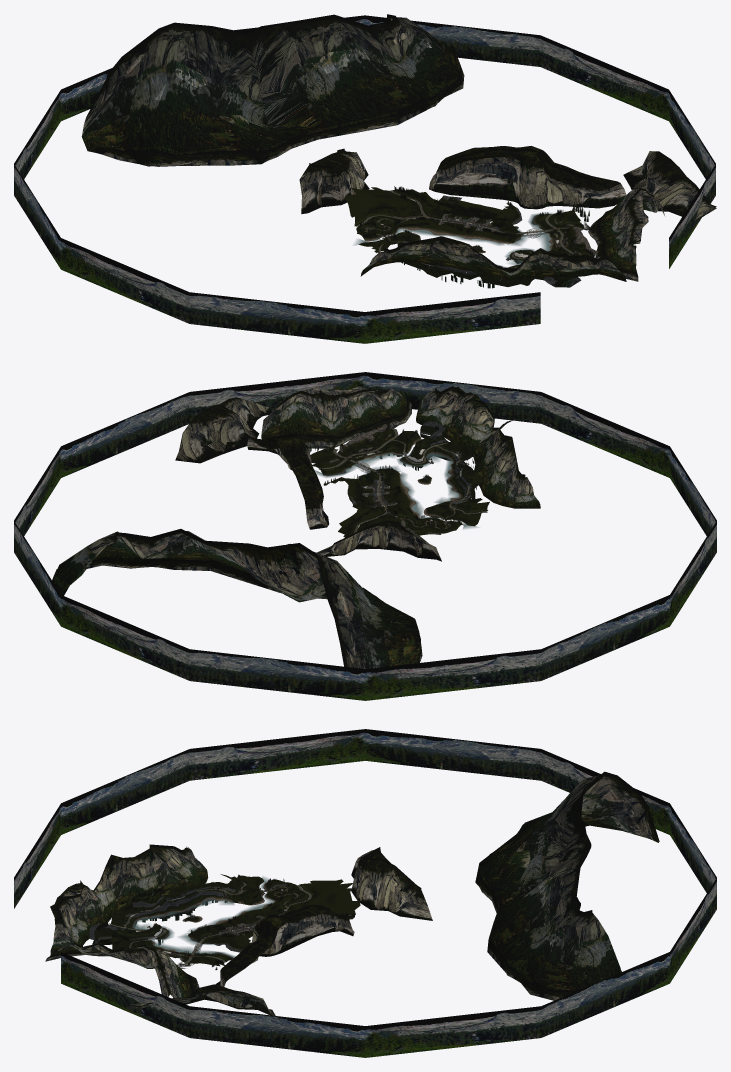
File: burnout3-silver_lake.glb
The picture shows the model from 3 angles, top to bottom: view 1: azimuth 30°, elevation 25°; view 2: azimuth 150°, elevation 25°; view 3: azimuth 270°, elevation 25°; orthographic projection.
Parts seen in each view (by area): view 1: reflection_grp_000_mdl_003_sub_000, reflection_grp_000_mdl_006_sub_000, reflection_grp_000_mdl_007_sub_000, backdrop_grp_009_mdl_006_sub_000, backdrop_grp_009_mdl_008_sub_000, backdrop_grp_009_mdl_000_sub_000, backdrop_grp_009_mdl_010_sub_000, backdrop_grp_009_mdl_002_sub_000, backdrop_grp_001_mdl_007_sub_000, backdrop_grp_001_mdl_008_sub_000, backdrop_grp_001_mdl_013_sub_000, backdrop_grp_001_mdl_006_sub_000 (+27 smaller); view 2: reflection_grp_000_mdl_007_sub_000, backdrop_grp_009_mdl_005_sub_000, backdrop_grp_009_mdl_007_sub_000, backdrop_grp_009_mdl_001_sub_000, backdrop_grp_009_mdl_003_sub_000, backdrop_grp_009_mdl_006_sub_000, backdrop_grp_009_mdl_009_sub_000, backdrop_grp_009_mdl_004_sub_000, backdrop_grp_002_mdl_003_sub_000, backdrop_grp_009_mdl_011_sub_001, backdrop_grp_002_mdl_011_sub_000, backdrop_grp_002_mdl_005_sub_000 (+28 smaller); view 3: reflection_grp_000_mdl_003_sub_000, backdrop_grp_009_mdl_000_sub_000, backdrop_grp_009_mdl_001_sub_000, backdrop_grp_009_mdl_009_sub_000, backdrop_grp_009_mdl_010_sub_000, reflection_grp_000_mdl_006_sub_000, backdrop_grp_009_mdl_002_sub_000, backdrop_grp_009_mdl_008_sub_000, backdrop_grp_009_mdl_011_sub_001, reflection_grp_000_mdl_001_sub_000, backdrop_grp_002_mdl_015_sub_000, backdrop_grp_009_mdl_007_sub_000 (+23 smaller).
Part boxes in pixels (x1,y1,x2,y2): reflection_grp_000_mdl_003_sub_000: [262, 14, 457, 139]; reflection_grp_000_mdl_006_sub_000: [148, 26, 319, 166]; reflection_grp_000_mdl_007_sub_000: [83, 22, 260, 166]; backdrop_grp_009_mdl_006_sub_000: [365, 292, 540, 343]; backdrop_grp_009_mdl_008_sub_000: [189, 292, 364, 343]; backdrop_grp_009_mdl_000_sub_000: [540, 35, 668, 120]; backdrop_grp_009_mdl_010_sub_000: [61, 238, 189, 323]; backdrop_grp_009_mdl_002_sub_000: [365, 15, 540, 66]; backdrop_grp_001_mdl_007_sub_000: [498, 146, 545, 209]; backdrop_grp_001_mdl_008_sub_000: [452, 146, 512, 200]; backdrop_grp_001_mdl_013_sub_000: [299, 158, 341, 214]; backdrop_grp_001_mdl_006_sub_000: [539, 149, 587, 207]; reflection_grp_000_mdl_007_sub_000: [293, 543, 420, 668]; backdrop_grp_009_mdl_005_sub_000: [189, 649, 365, 700]; backdrop_grp_009_mdl_007_sub_000: [365, 649, 541, 700]; backdrop_grp_009_mdl_001_sub_000: [61, 392, 189, 477]; backdrop_grp_009_mdl_003_sub_000: [61, 595, 189, 680]; backdrop_grp_009_mdl_006_sub_000: [541, 392, 669, 477]; backdrop_grp_009_mdl_009_sub_000: [541, 595, 669, 680]; backdrop_grp_009_mdl_004_sub_000: [365, 372, 541, 423]; backdrop_grp_002_mdl_003_sub_000: [292, 387, 362, 448]; backdrop_grp_009_mdl_011_sub_001: [189, 372, 365, 422]; backdrop_grp_002_mdl_011_sub_000: [239, 544, 325, 602]; backdrop_grp_002_mdl_005_sub_000: [346, 386, 411, 440]; reflection_grp_000_mdl_003_sub_000: [487, 825, 607, 982]; backdrop_grp_009_mdl_000_sub_000: [365, 1006, 541, 1057]; backdrop_grp_009_mdl_001_sub_000: [189, 1006, 365, 1057]; backdrop_grp_009_mdl_009_sub_000: [365, 729, 541, 780]; backdrop_grp_009_mdl_010_sub_000: [189, 729, 365, 780]; reflection_grp_000_mdl_006_sub_000: [475, 779, 585, 912]; backdrop_grp_009_mdl_002_sub_000: [541, 952, 669, 1037]; backdrop_grp_009_mdl_008_sub_000: [61, 749, 189, 834]; backdrop_grp_009_mdl_011_sub_001: [61, 952, 189, 1037]; reflection_grp_000_mdl_001_sub_000: [521, 927, 620, 1000]; backdrop_grp_002_mdl_015_sub_000: [584, 777, 658, 842]; backdrop_grp_009_mdl_007_sub_000: [541, 749, 669, 834].
Bounding box in the file's own units: 70.37 × 12.91 × 70.37.
100 materials, 99 textured.
